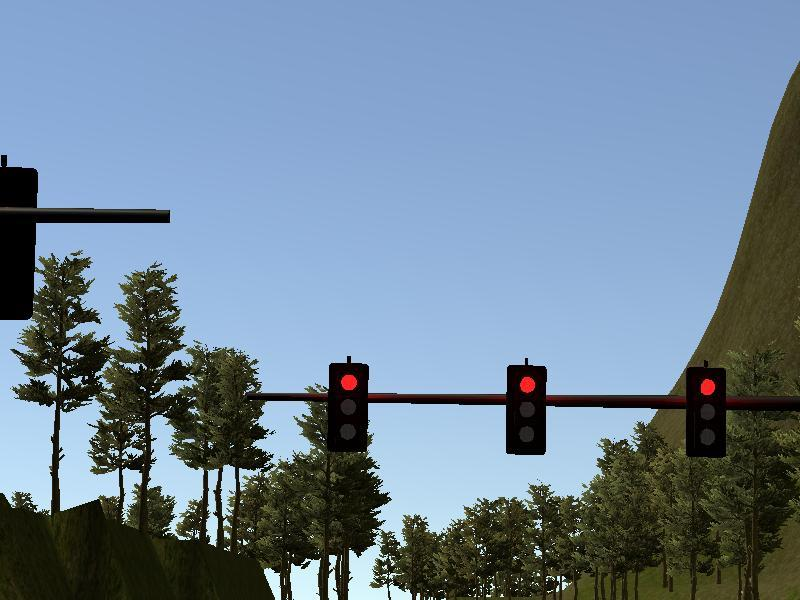Red: (687, 368, 726, 457), (329, 361, 367, 450), (508, 366, 545, 454)
